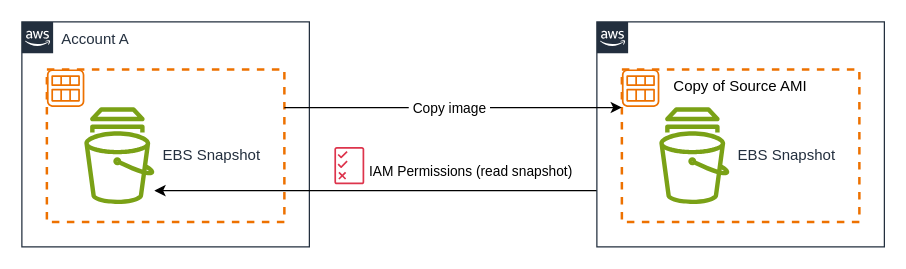
Some shapes in this 906 by 269 pixel diagram are drawn without their labels. The shapes that lost their labels are listed below. From the top down, each one's box as (x1, y1, x2, y2) in pixels, then its label:
(45, 68, 285, 222): Source AMI
(596, 21, 884, 247): Account B
